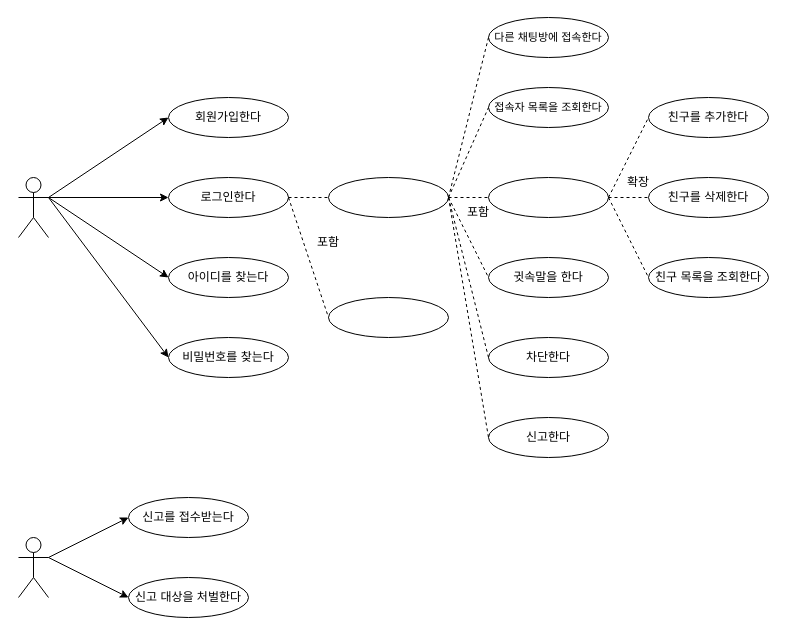
The diagram is 786 pixels wide and 636 high, and some of its shapes have lost their labels. The shapes that lost their labels are listed below. From the top down, each one's centre as x and y in pixels, then its label:
At pixel 33 207: "회원".
At pixel 388 197: "채팅한다".
At pixel 548 197: "친구".
At pixel 388 317: "닉네임을 정한다".
At pixel 33 567: "관리자".
